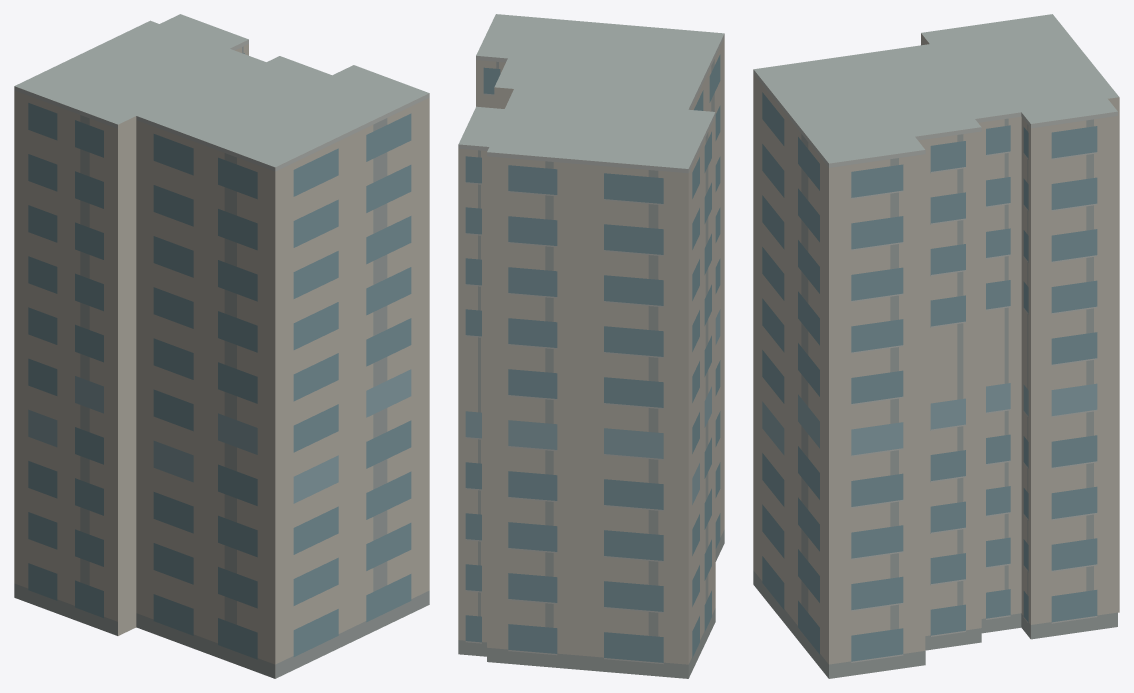
The model's file is residential-9da9d199-71de-49b8-9576-3d90a387f04a.glb.
3 renders of one model, left to right at view 1: azimuth 30°, elevation 25°; view 2: azimuth 150°, elevation 25°; view 3: azimuth 270°, elevation 25°, orthographic.
Visible parts, largest first — view 1: residential-9da9d199-71de-49b8-9576-3d90a387f04a.tmp; view 2: residential-9da9d199-71de-49b8-9576-3d90a387f04a.tmp; view 3: residential-9da9d199-71de-49b8-9576-3d90a387f04a.tmp.
Part boxes in pixels (<box>): residential-9da9d199-71de-49b8-9576-3d90a387f04a.tmp: <box>14,14,429,678</box>; residential-9da9d199-71de-49b8-9576-3d90a387f04a.tmp: <box>458,14,724,678</box>; residential-9da9d199-71de-49b8-9576-3d90a387f04a.tmp: <box>753,14,1119,678</box>.
Bounding box in the file's own units: 18.07 × 29 × 18.68.
